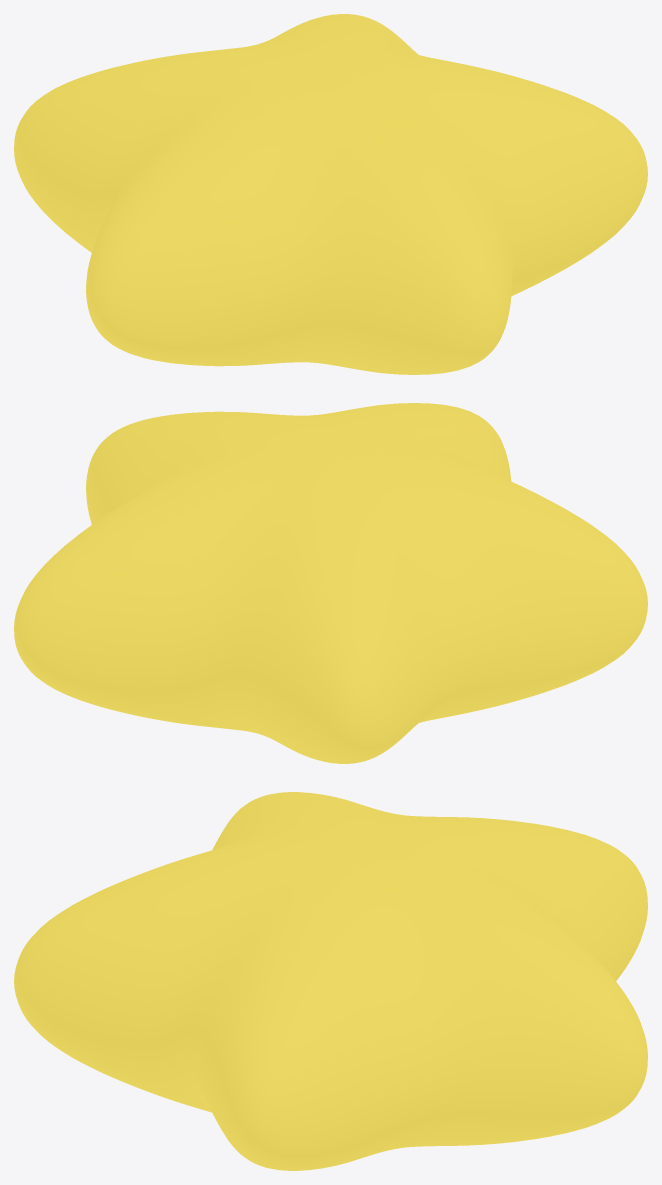
Rendered from star.glb.
The picture shows the model from 3 angles, top to bottom: view 1: azimuth 30°, elevation 25°; view 2: azimuth 150°, elevation 25°; view 3: azimuth 270°, elevation 25°; orthographic projection. The views are drawn at different scales.
Parts seen in each view (by area): view 1: star; view 2: star; view 3: star.
Boxes of the visible parts, left/top/right/bottom form: star: left=14, top=14, right=647, bottom=374; star: left=14, top=403, right=647, bottom=763; star: left=14, top=792, right=647, bottom=1170.
Bounding box in the file's own units: 1.59 × 0.7215 × 1.52.
